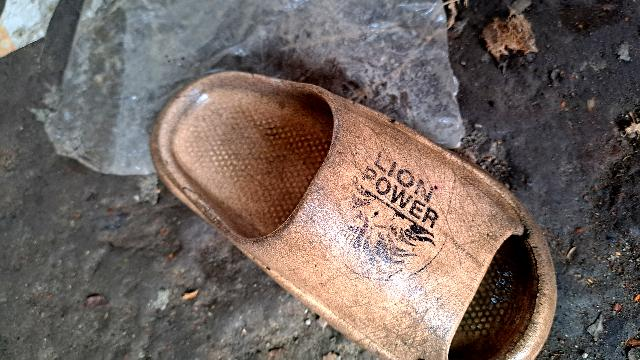sandal: (115, 38, 563, 360)
